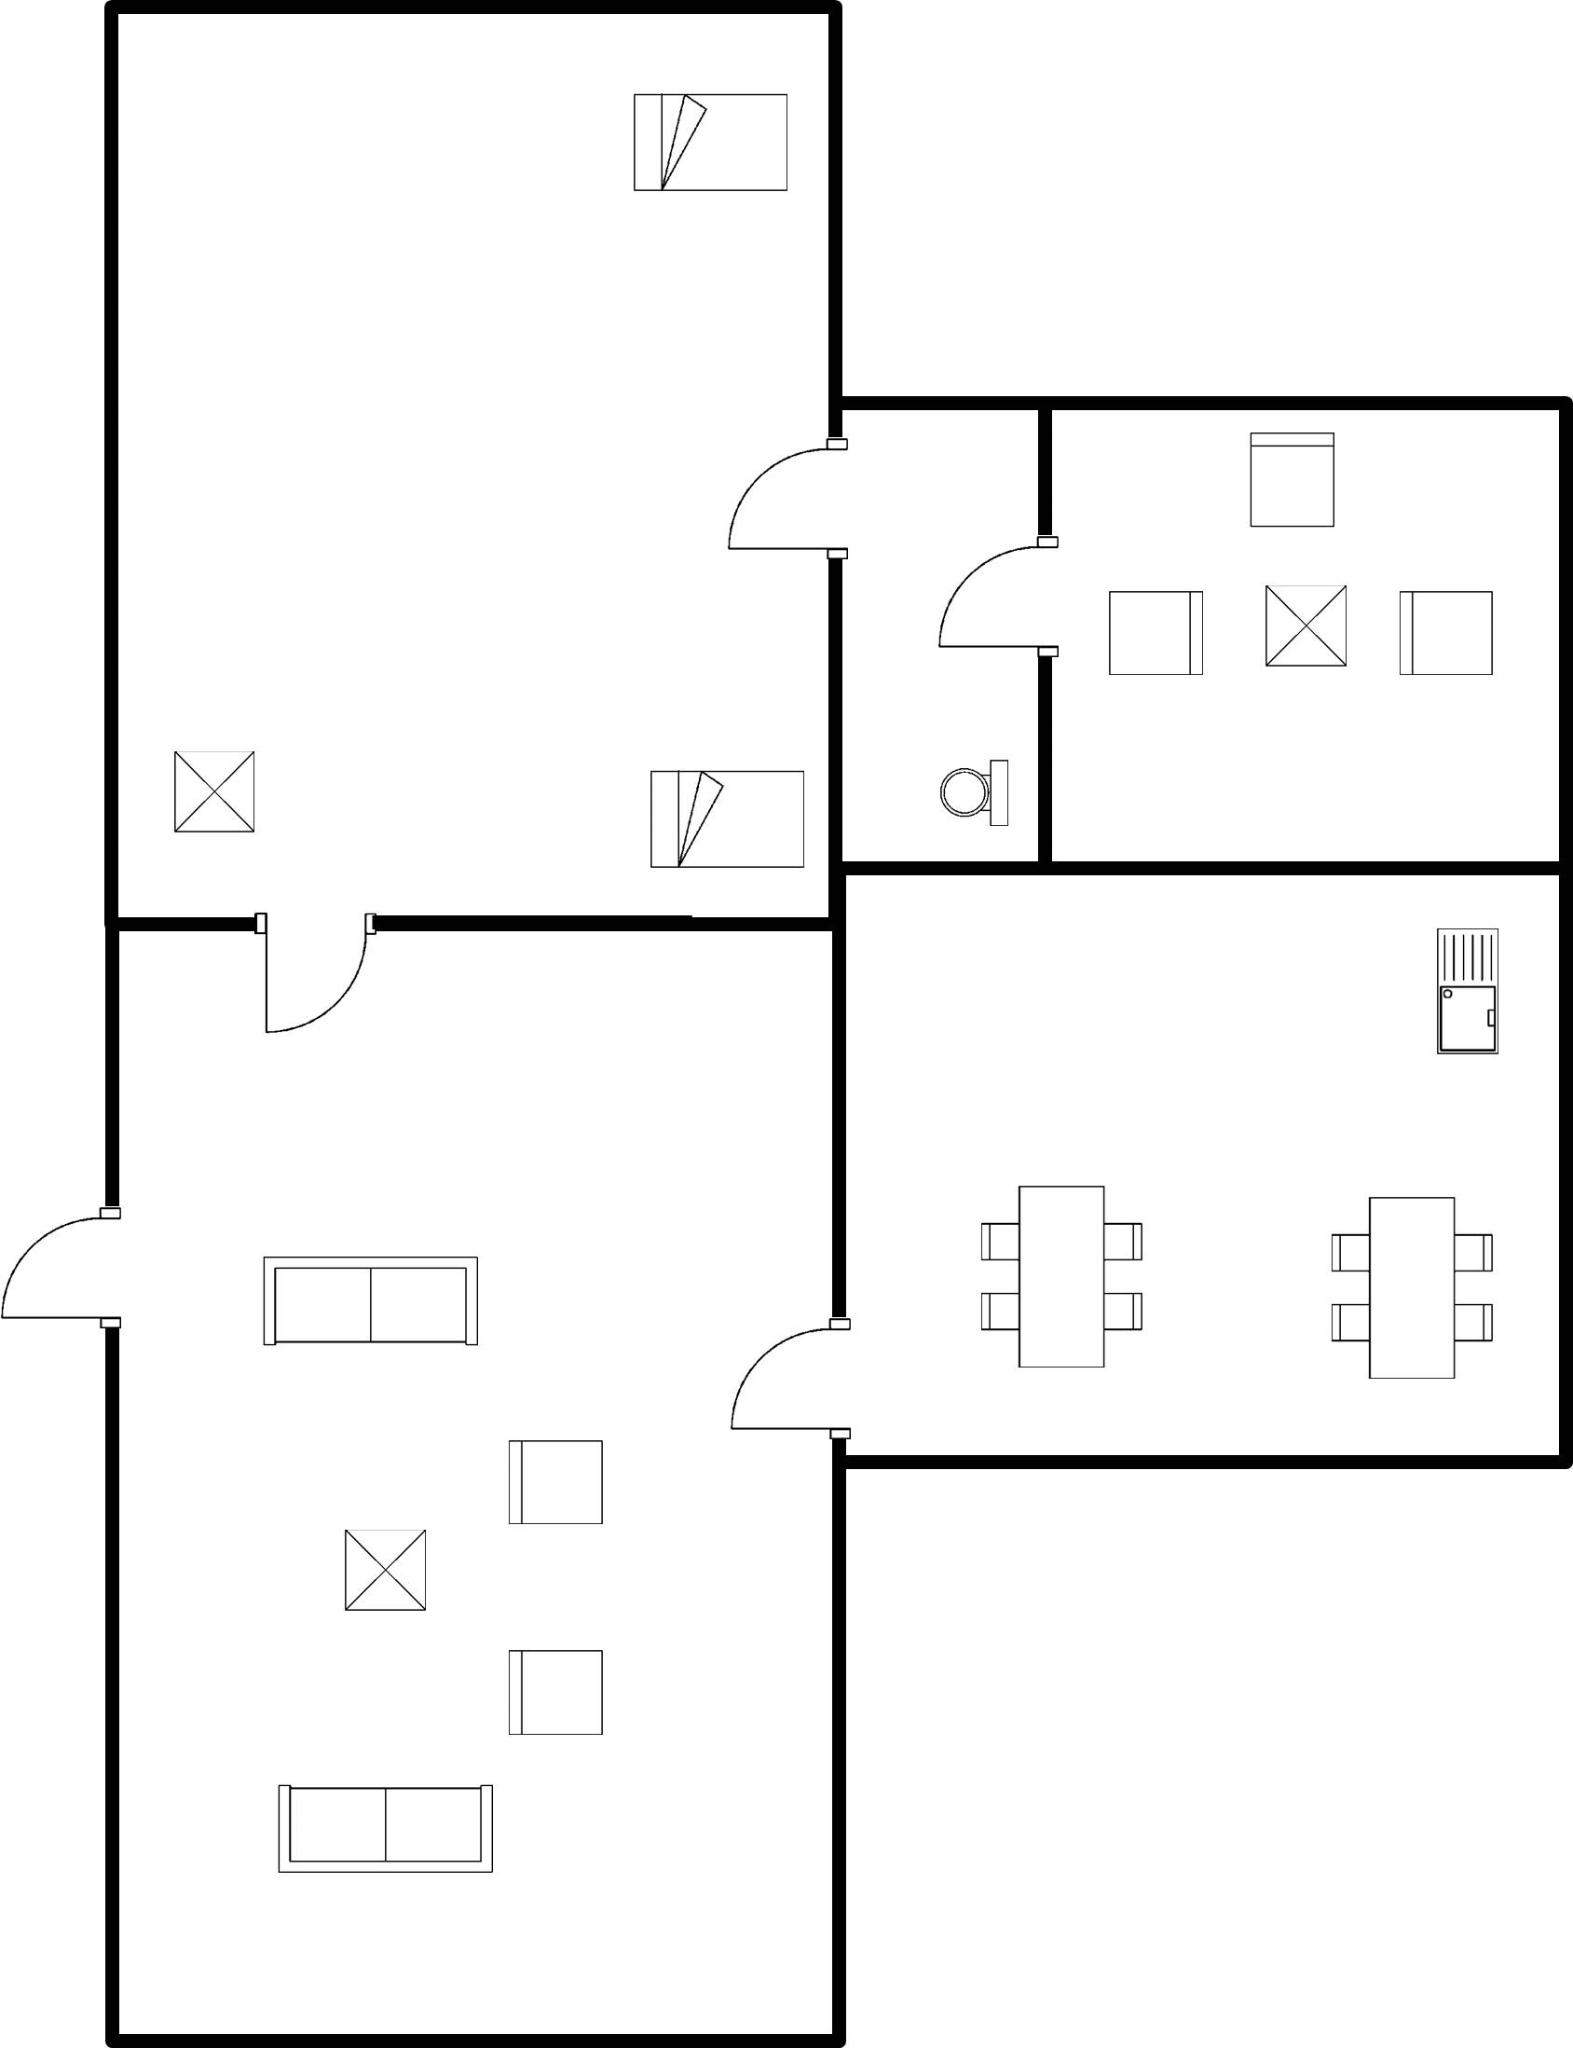bed: (623, 81, 796, 203), (634, 758, 811, 877)
dining_table: (1320, 1179, 1505, 1396), (967, 1173, 1152, 1377)
sink: (1421, 912, 1512, 1067)
sofa: (240, 1244, 487, 1361), (263, 1774, 507, 1889)
toilet: (925, 747, 1023, 837)
